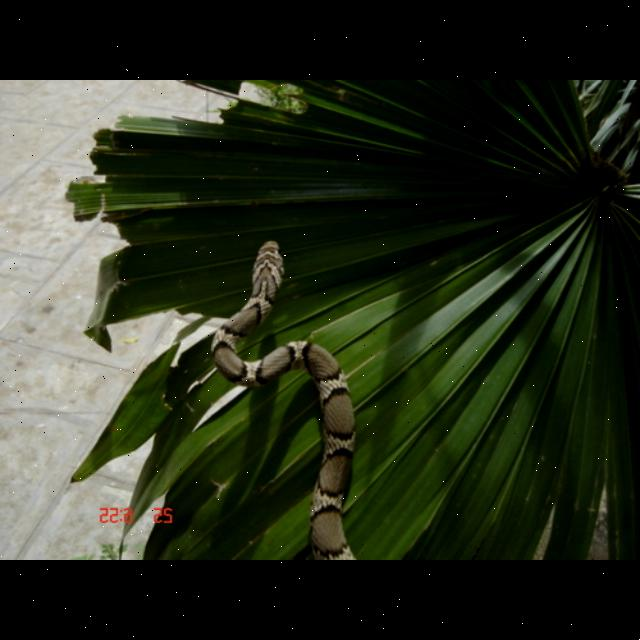snake: (210, 238, 370, 560)
